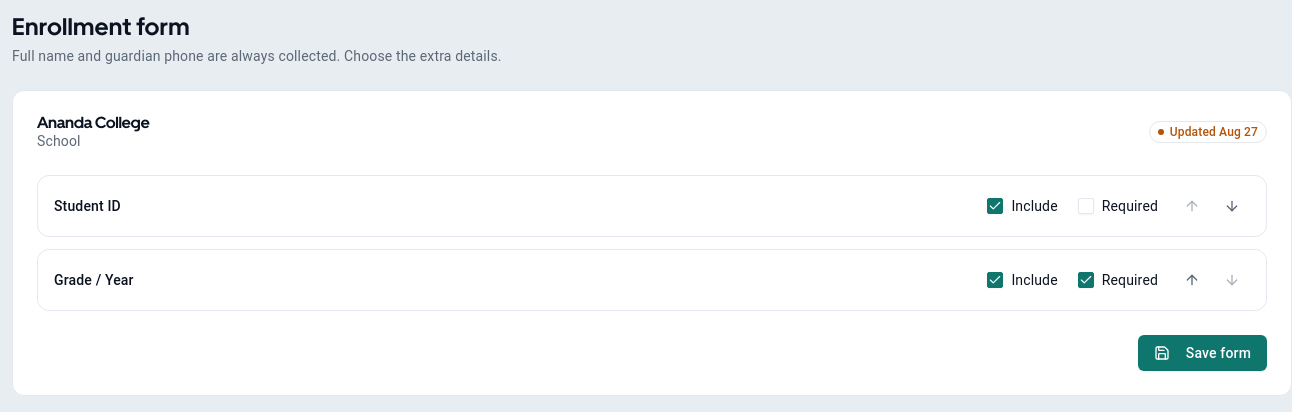
EnrollmentFormPage — offline › flags unsaved edits once a field is changed
Expected: the text "unsaved changes" is not shown
# Toggle the "Required" checkbox on the first field.
Click the 2nd checkbox at [1086, 206], box [1078,198,1094,214]
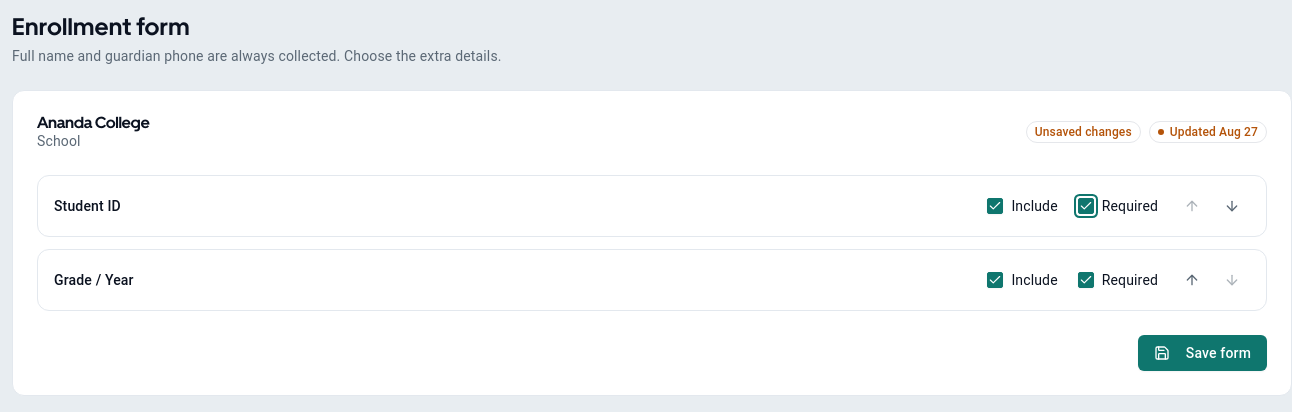
Result: the text "Unsaved changes" is shown at [1026,121,1141,143]
